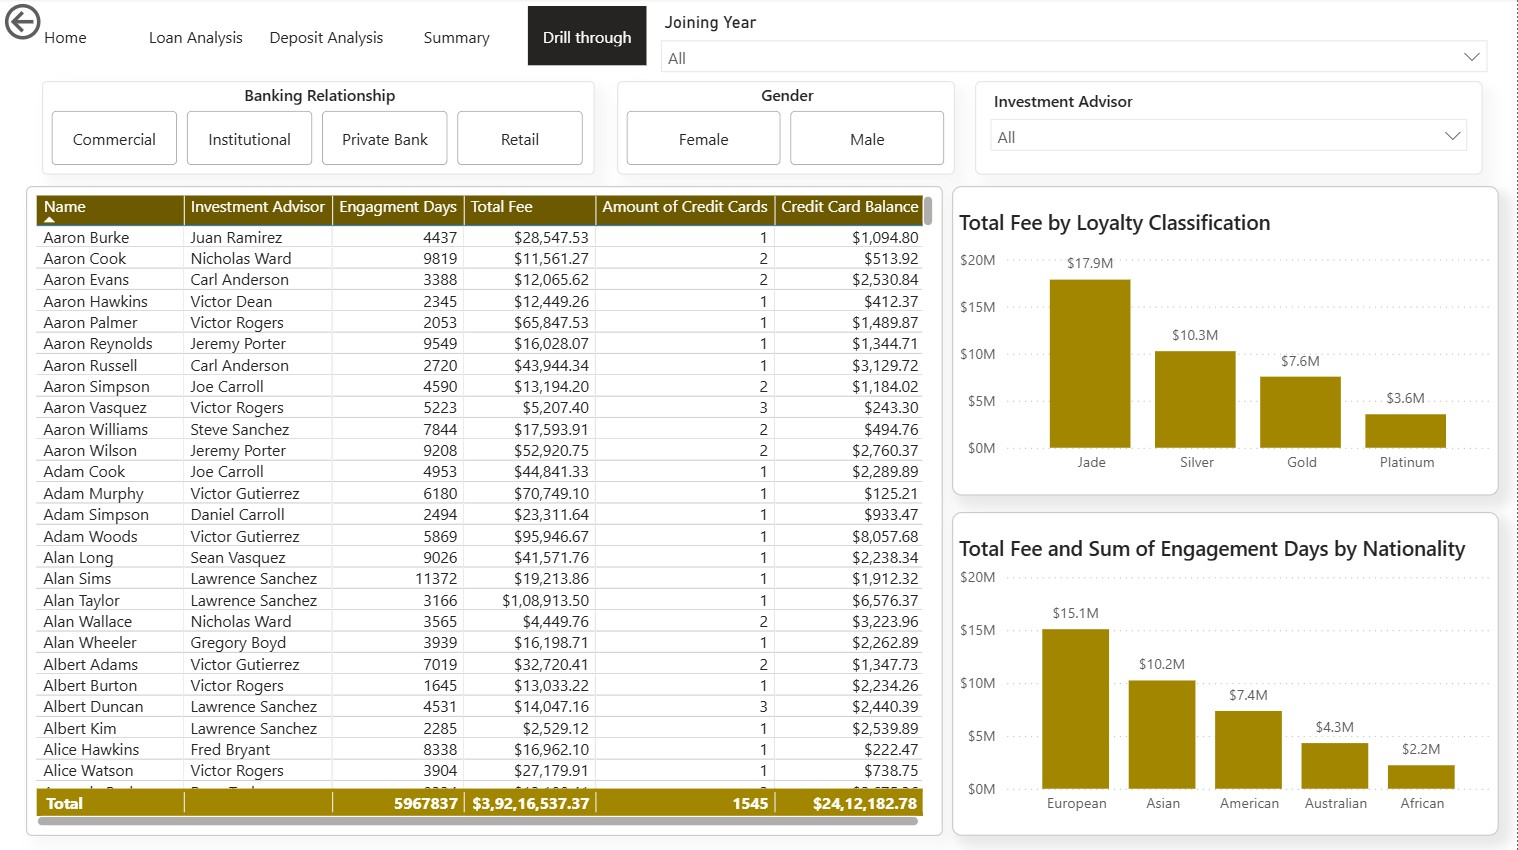

What the dashboard file says about the page in this screenshot:
{"tool":"powerbi","page":{"name":"Drill through","canvas":[1280,720],"ordinal":4},"visuals":[{"type":"pageNavigator","box":[6.3,7.2,541.8,50.1],"z":0},{"type":"advancedSlicerVisual","fields":{"Values":["banking-realtionships.Banking Relationship"]},"box":[36,70.2,466.3,79.2],"z":1000},{"type":"advancedSlicerVisual","fields":{"Values":["gender.Gender"]},"box":[521.2,70.2,285.3,79.2],"z":2000},{"type":"slicer","fields":{"Values":["investment-advisiors.Investment Advisor"]},"box":[822.7,70.2,428.5,79.2],"z":3000},{"type":"slicer","fields":{"Values":["banking.Joining Year"]},"box":[548.2,7.2,716.5,61.2],"z":4000},{"type":"tableEx","fields":{"Values":["banking.Name","investment-advisiors.Investment Advisor","Sum(banking.Engagment Days)","banking.Total Fee","Sum(banking.Amount of Credit Cards)","banking.Total Credit Card Balance"]},"box":[22.6,158.8,773.1,547.5],"z":5000},{"type":"actionButton","box":[0,0,100,40],"z":6000},{"type":"clusteredColumnChart","fields":{"Y":["banking.Total Fee"],"Category":["banking.Loyalty Classification"]},"box":[803.7,158.8,460.9,260.7],"z":7000},{"type":"clusteredColumnChart","title":"Total Fee and Sum of Engagement Days by Nationality","fields":{"Category":["banking.Nationality"],"Y":["banking.Total Fee"]},"box":[803.7,433,460.9,273.3],"z":8000}]}

Visuals, with their boxes in screenshot pixels (x1, y1, x2, y2), scaled from the page's 1280x720 canvas onto the 1518x850 screenshot:
pageNavigator: box=[7, 8, 650, 68]
advancedSlicerVisual - banking-realtionships.Banking Relationship: box=[43, 83, 596, 176]
advancedSlicerVisual - gender.Gender: box=[618, 83, 956, 176]
slicer - investment-advisiors.Investment Advisor: box=[976, 83, 1484, 176]
slicer - banking.Joining Year: box=[650, 8, 1500, 81]
tableEx - banking.Name x investment-advisiors.Investment Advisor: box=[27, 187, 944, 834]
actionButton: box=[0, 0, 119, 47]
clusteredColumnChart - banking.Total Fee x banking.Loyalty Classification: box=[953, 187, 1500, 495]
"Total Fee and Sum of Engagement Days by Nationality" clusteredColumnChart: box=[953, 511, 1500, 834]
